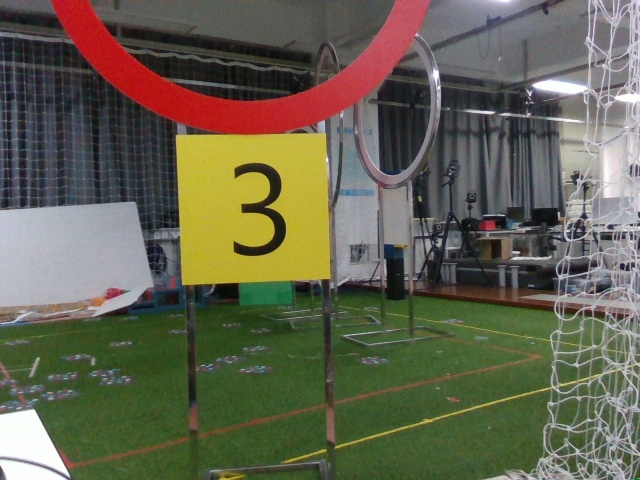target: (180, 139, 324, 282)
